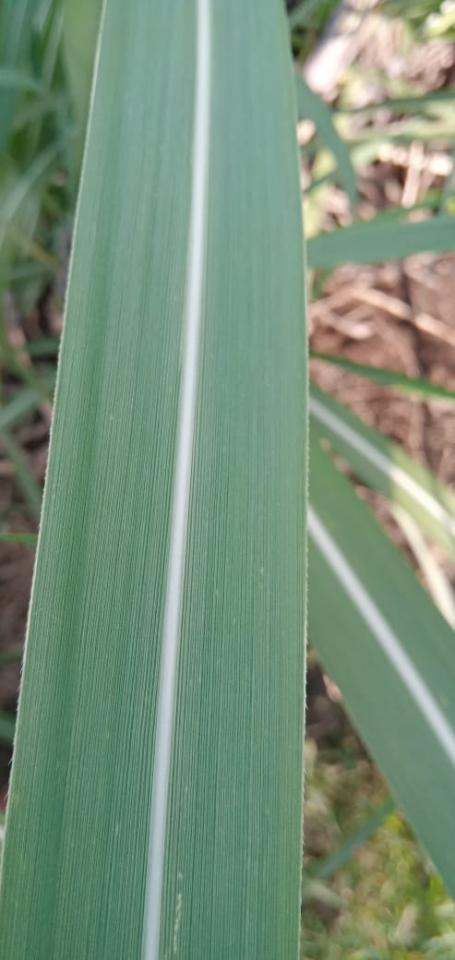Healthy: (0, 0, 196, 959), (160, 0, 306, 959), (308, 531, 454, 899), (308, 428, 454, 732)
